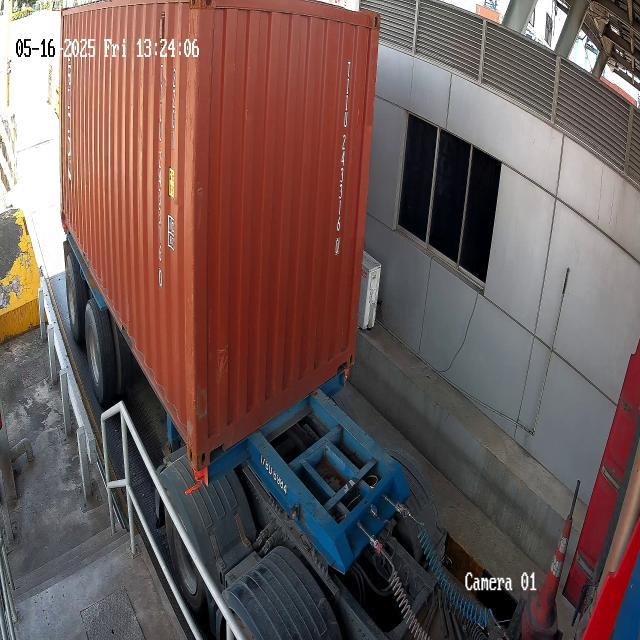ISO: (164, 44, 191, 164)
container_number: (324, 48, 357, 274), (148, 28, 168, 286)
